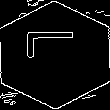L_E: (26, 39, 84, 71)
